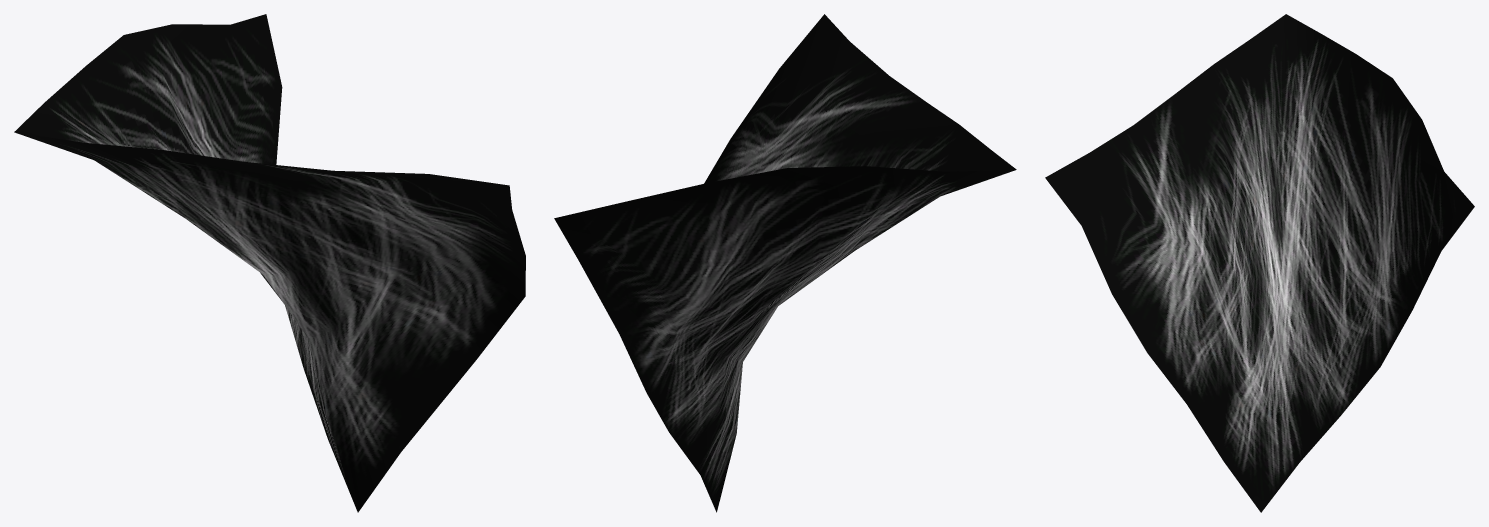
The model's file is SWORDLIGHT20_PS-AREA01_CORNERWEB16.fbx.
The picture shows the model from 3 angles, left to right: view 1: azimuth 30°, elevation 25°; view 2: azimuth 150°, elevation 25°; view 3: azimuth 270°, elevation 25°; orthographic projection. The views are drawn at different scales.
Parts seen in each view (by area): view 1: SWORDLIGHT20_PS-AREA01_CORNERWEB16; view 2: SWORDLIGHT20_PS-AREA01_CORNERWEB16; view 3: SWORDLIGHT20_PS-AREA01_CORNERWEB16.
Boxes of the visible parts, x1=… form: SWORDLIGHT20_PS-AREA01_CORNERWEB16: x1=14, y1=14, x2=525, y2=512; SWORDLIGHT20_PS-AREA01_CORNERWEB16: x1=554, y1=14, x2=1016, y2=512; SWORDLIGHT20_PS-AREA01_CORNERWEB16: x1=1045, y1=14, x2=1474, y2=512.
Bounding box in the file's own units: 53546 × 54790 × 57142.
1 material, 1 textured.
